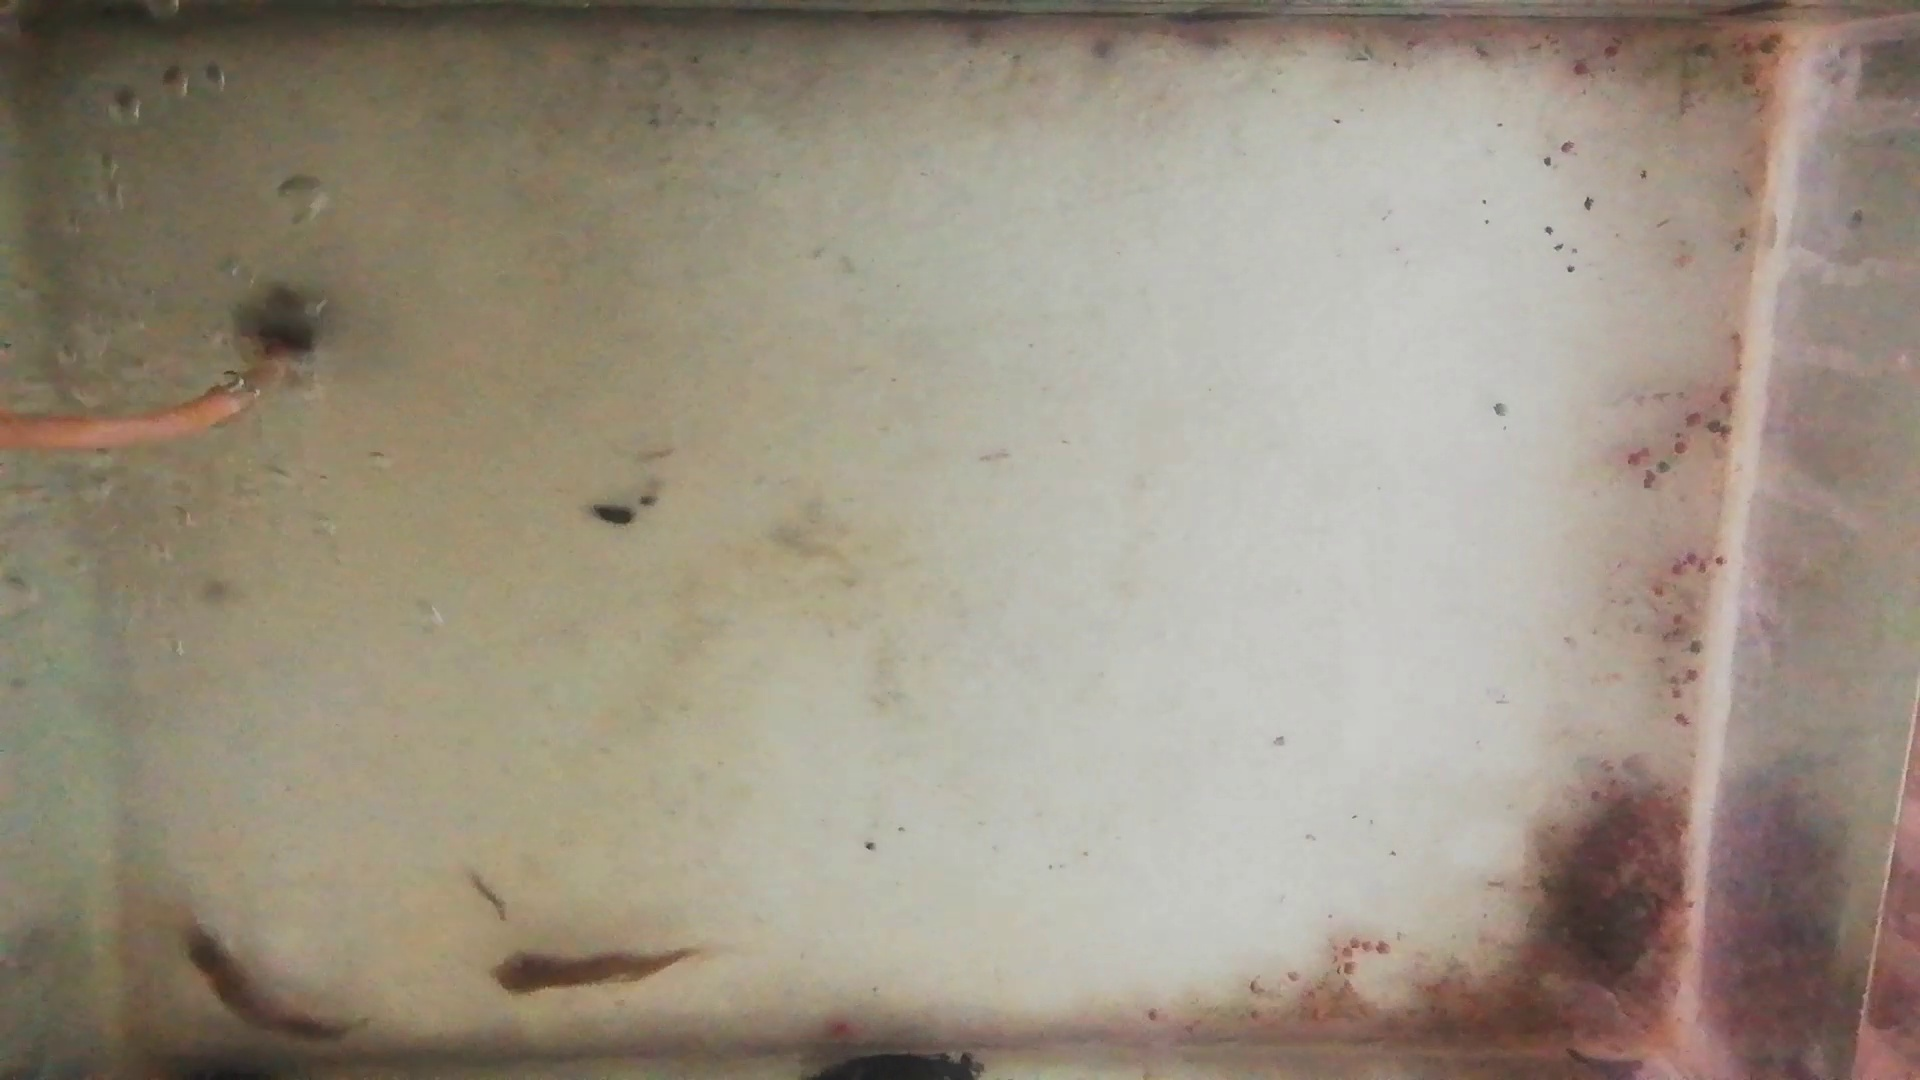fish: (169, 919, 336, 1038), (491, 945, 686, 1000)
